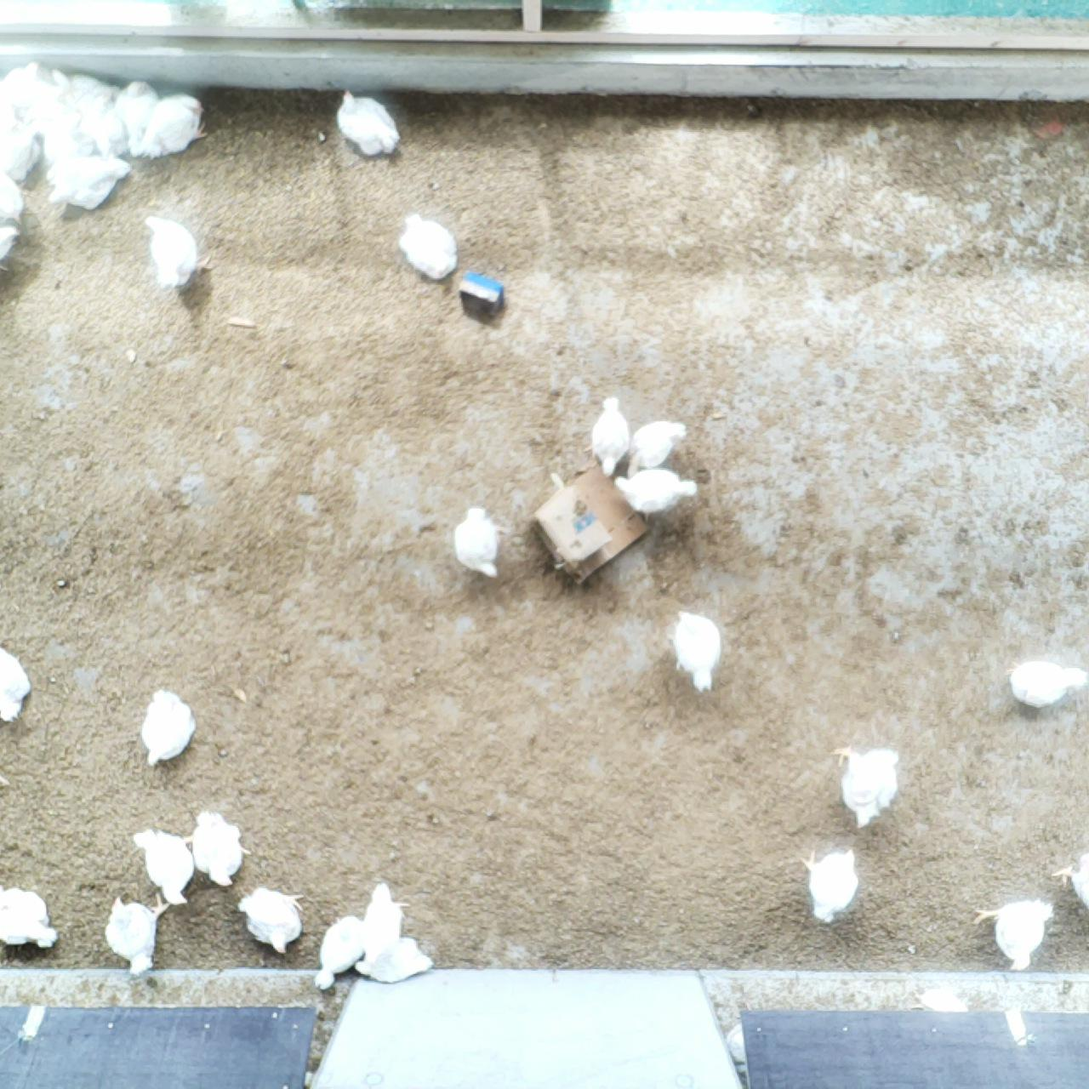chicken: (831, 743, 900, 830), (976, 898, 1053, 969), (145, 216, 217, 290), (106, 893, 169, 975), (45, 156, 134, 210), (133, 828, 196, 904), (192, 810, 252, 888), (240, 886, 306, 955), (800, 848, 860, 923), (671, 610, 723, 693), (614, 468, 697, 520), (338, 90, 402, 157), (314, 915, 371, 989), (398, 213, 459, 281), (1006, 659, 1089, 708), (144, 689, 196, 766), (583, 395, 630, 479), (145, 93, 204, 154), (0, 887, 60, 946), (455, 506, 503, 578), (359, 938, 435, 983), (359, 884, 413, 944), (81, 89, 129, 150), (118, 78, 161, 144), (633, 421, 687, 471), (0, 131, 47, 184), (0, 56, 45, 111), (0, 647, 31, 722), (1051, 854, 1089, 913), (34, 107, 81, 151), (52, 65, 96, 106), (0, 174, 26, 225), (0, 225, 23, 274)
